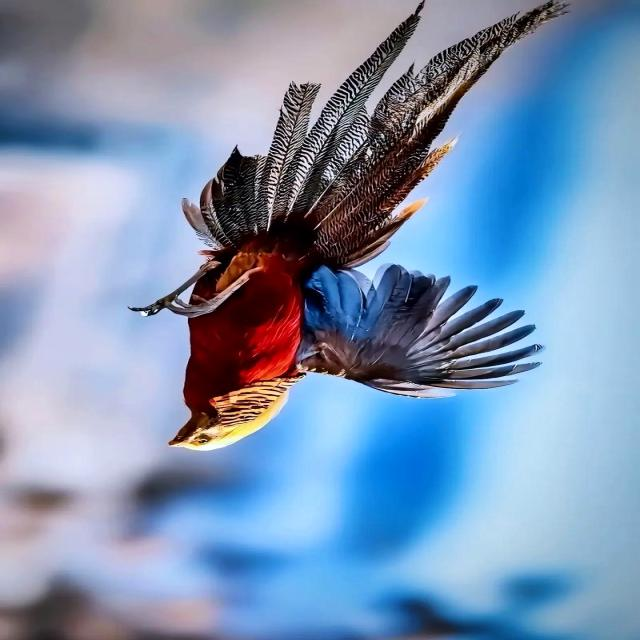Chrysolophus pictus feather: (181, 0, 572, 271)
